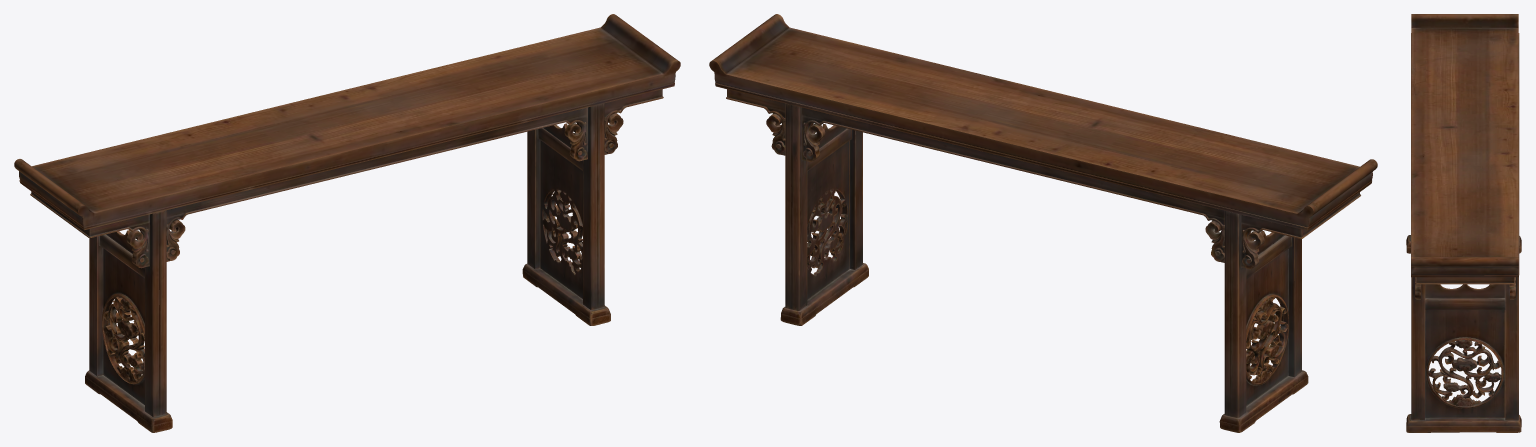
File: chinese_console_table_opt.glb
The picture shows the model from 3 angles, left to right: view 1: azimuth 30°, elevation 25°; view 2: azimuth 150°, elevation 25°; view 3: azimuth 270°, elevation 25°; orthographic projection. The views are drawn at different scales.
Parts seen in each view (by area): view 1: chinese_console_table; view 2: chinese_console_table; view 3: chinese_console_table.
Boxes of the visible parts, left/top/right/bottom form: chinese_console_table: left=14, top=14, right=680, bottom=432; chinese_console_table: left=709, top=14, right=1377, bottom=432; chinese_console_table: left=1406, top=14, right=1521, bottom=432.
Size of the model in its own units: 1.72 by 0.6607 by 0.3388.
Materials: 1 (1 with a texture image).
